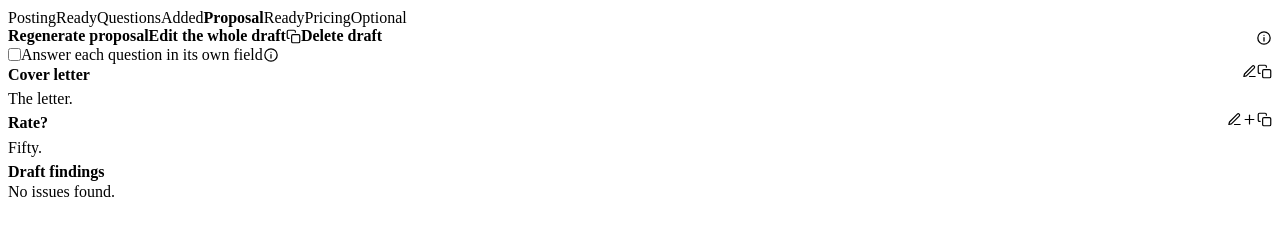
Test: editing a section › offers the library answer once one is saved for the question
Click the button named "Save this answer to the library (strip anything specific to". click: (1250, 120)
box: x1=1242 y1=112 x2=1257 y2=127
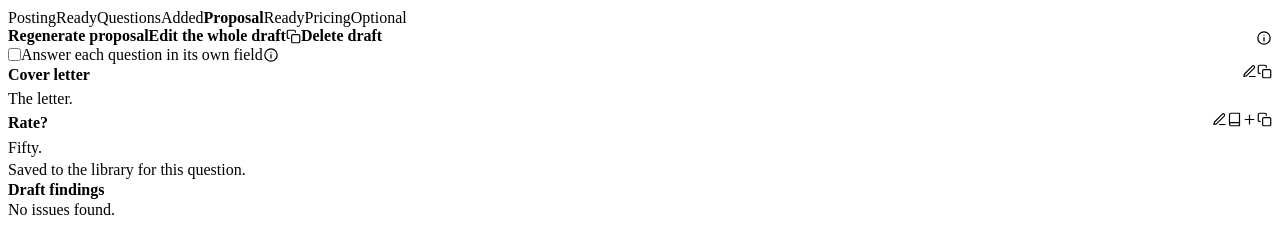
Check: the button named "Use the saved library answer" is shown, box x1=1227 y1=112 x2=1242 y2=127
Check: the text "Saved to the library" is shown, box x1=8 y1=161 x2=246 y2=178
